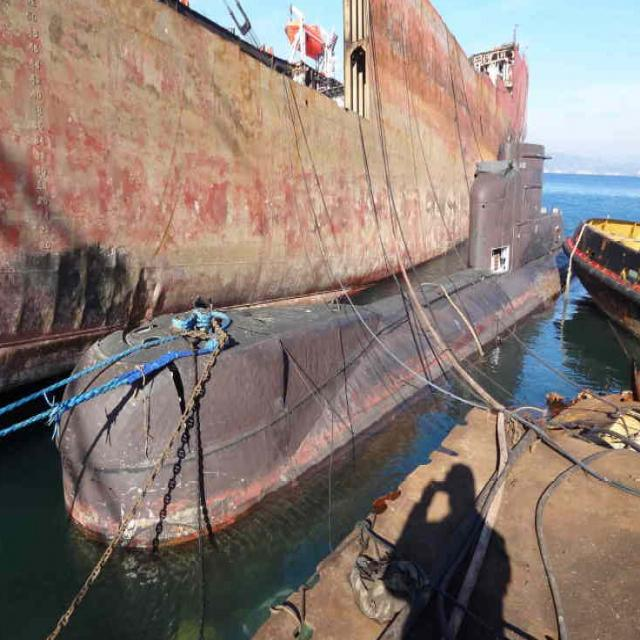submarine: (61, 141, 567, 547)
